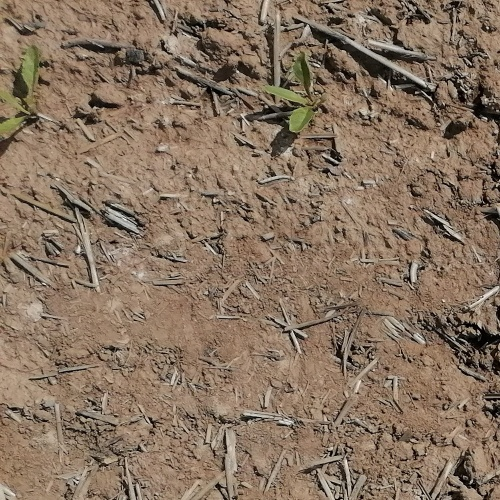beet: (0, 45, 41, 142), (267, 54, 312, 136)
